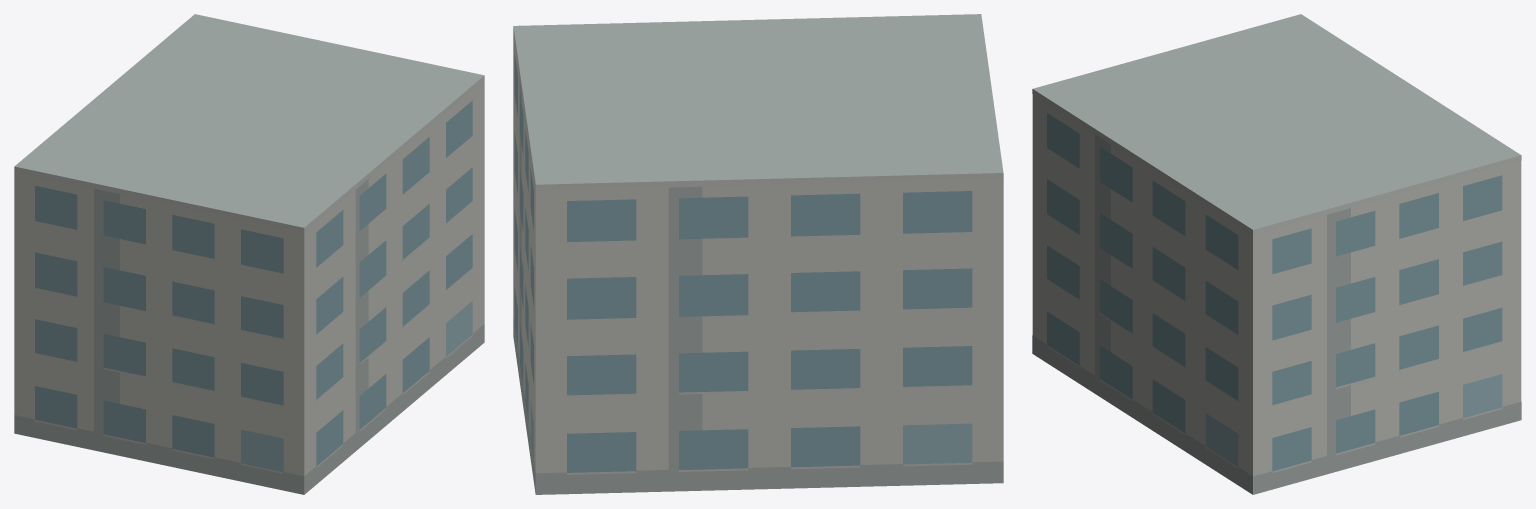
The model's file is residential-d8aaf38e-dbeb-4d77-8a4c-9b084ae25125.glb.
3 renders of one model, left to right at view 1: azimuth 30°, elevation 25°; view 2: azimuth 150°, elevation 25°; view 3: azimuth 270°, elevation 25°, orthographic. The views are drawn at different scales.
Parts seen in each view (by area): view 1: residential-d8aaf38e-dbeb-4d77-8a4c-9b084ae25125.tmp; view 2: residential-d8aaf38e-dbeb-4d77-8a4c-9b084ae25125.tmp; view 3: residential-d8aaf38e-dbeb-4d77-8a4c-9b084ae25125.tmp.
Boxes of the visible parts, <box> form: residential-d8aaf38e-dbeb-4d77-8a4c-9b084ae25125.tmp: <box>14,14,484,494</box>; residential-d8aaf38e-dbeb-4d77-8a4c-9b084ae25125.tmp: <box>513,14,1003,494</box>; residential-d8aaf38e-dbeb-4d77-8a4c-9b084ae25125.tmp: <box>1032,14,1521,494</box>.
Bounding box in the file's own units: 21.34 × 12.2 × 20.41.
